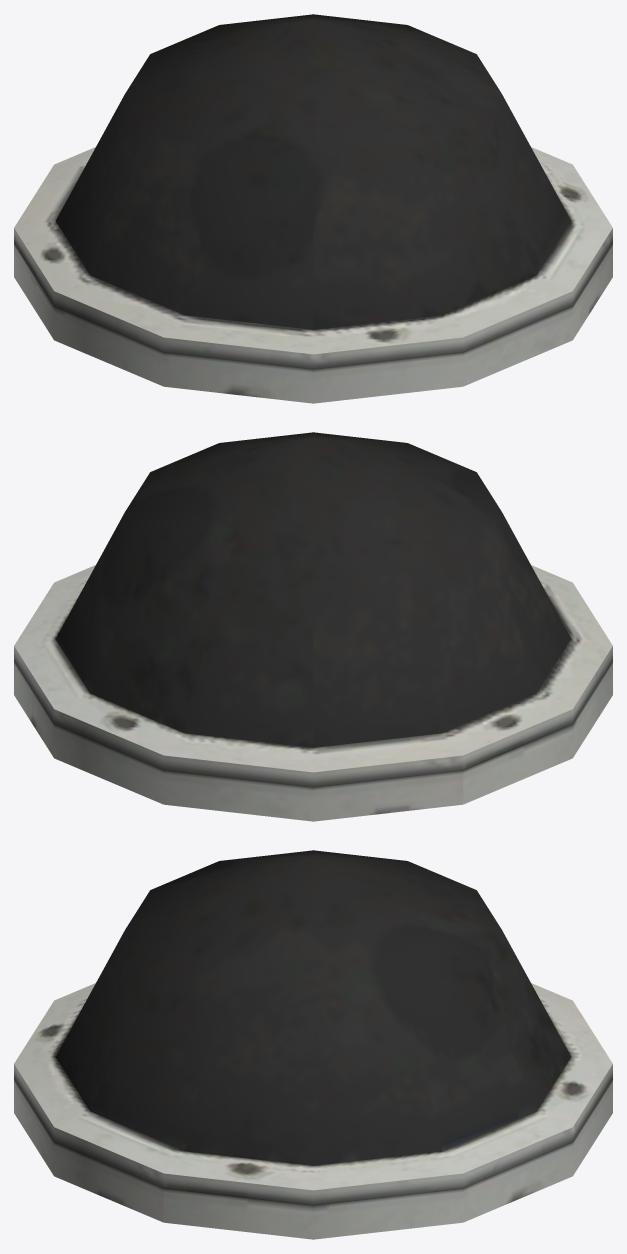
File: p6_security_camera_dome_lod1.glb
3 views of the same model, one above another, from view 1: azimuth 30°, elevation 25°; view 2: azimuth 150°, elevation 25°; view 3: azimuth 270°, elevation 25° (orthographic).
Visible parts, largest first — view 1: surf0; view 2: surf0; view 3: surf0.
Part boxes in pixels (left/top/right/bottom): surf0: left=14, top=14, right=612, bottom=403; surf0: left=14, top=432, right=612, bottom=821; surf0: left=14, top=850, right=612, bottom=1239.
Bounding box in the file's own units: 10.71 × 5.04 × 10.71.
